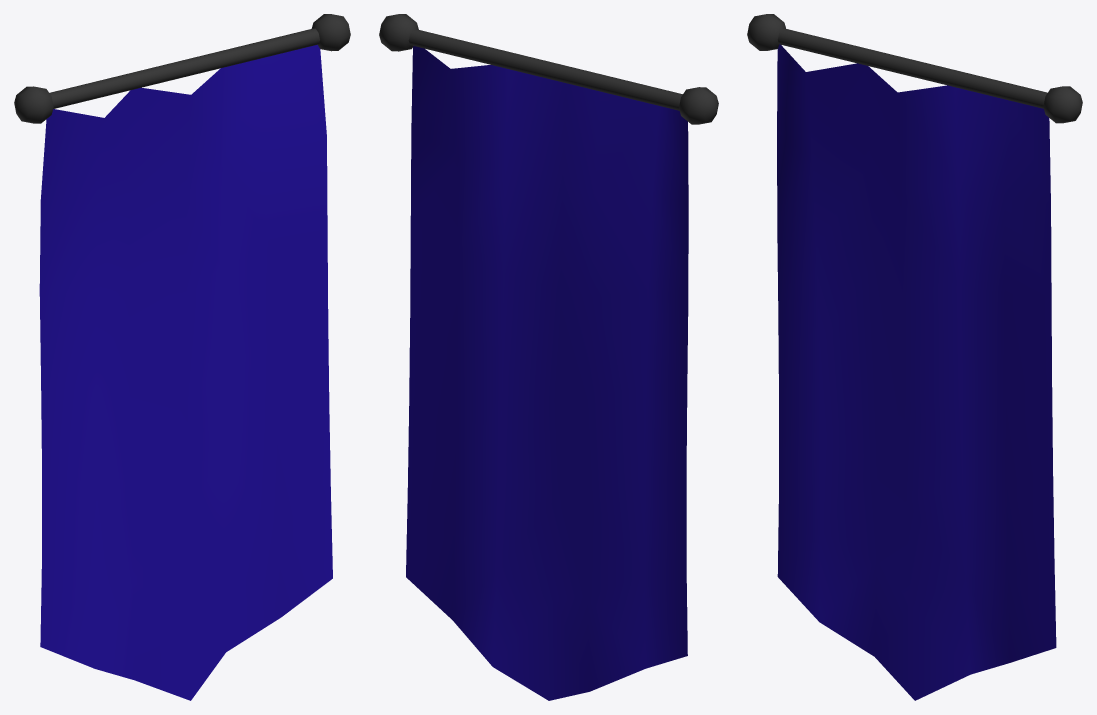
File: Wall_Banner_3.fbx
3 views of the same model, side by side, from view 1: azimuth 30°, elevation 25°; view 2: azimuth 150°, elevation 25°; view 3: azimuth 330°, elevation 25° (orthographic).
Parts seen in each view (by area): view 1: 1_Wall_Banner_3; view 2: 1_Wall_Banner_3; view 3: 1_Wall_Banner_3.
Part boxes in pixels (x1=…): 1_Wall_Banner_3: x1=14, y1=14, x2=350, y2=700; 1_Wall_Banner_3: x1=379, y1=14, x2=718, y2=700; 1_Wall_Banner_3: x1=747, y1=14, x2=1082, y2=700.
Bounding box in the file's own units: 76.52 × 143 × 10.32.
